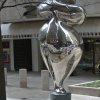Statue: (27, 2, 84, 91)
